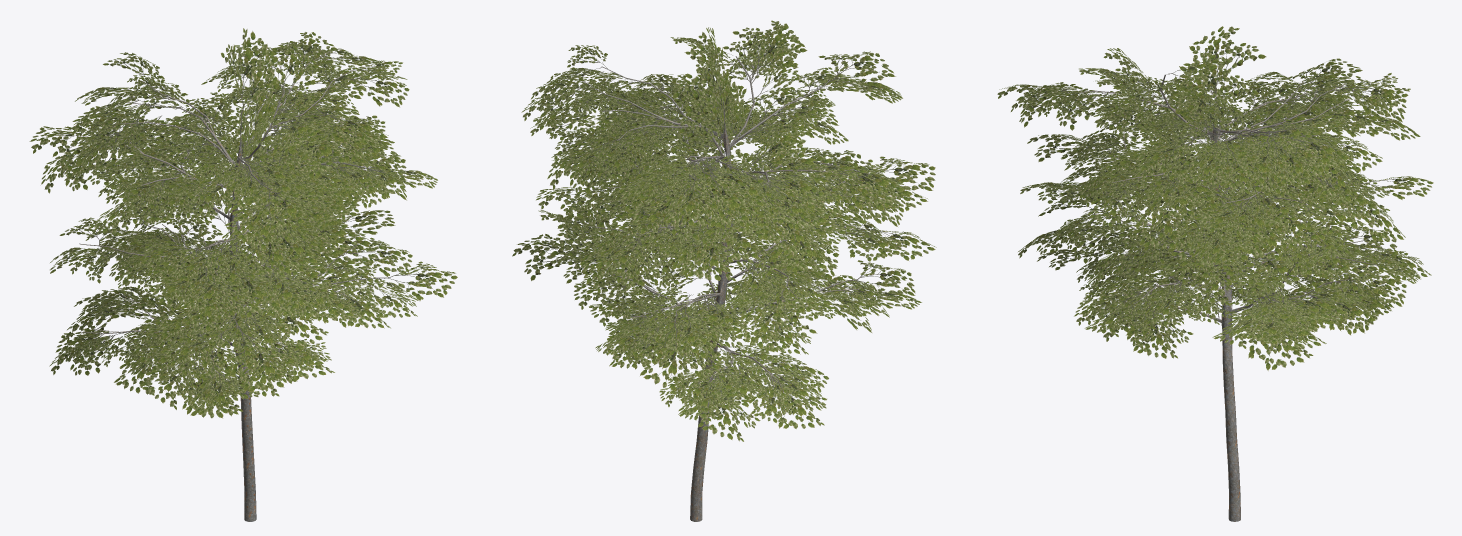
The model's file is MB_Ficus_Aurea_02.fbx.
The picture shows the model from 3 angles, left to right: view 1: azimuth 30°, elevation 25°; view 2: azimuth 150°, elevation 25°; view 3: azimuth 270°, elevation 25°; orthographic projection.
Parts seen in each view (by area): view 1: MB_Ficus_Aurea_02_LOD0; view 2: MB_Ficus_Aurea_02_LOD0; view 3: MB_Ficus_Aurea_02_LOD0.
Boxes of the visible parts, x1,y1,x2,y2 form: MB_Ficus_Aurea_02_LOD0: (29,28,457,521); MB_Ficus_Aurea_02_LOD0: (512,20,936,521); MB_Ficus_Aurea_02_LOD0: (997,26,1433,521).
Size of what is drawn, in the model's own units: 633 by 846 by 709.
